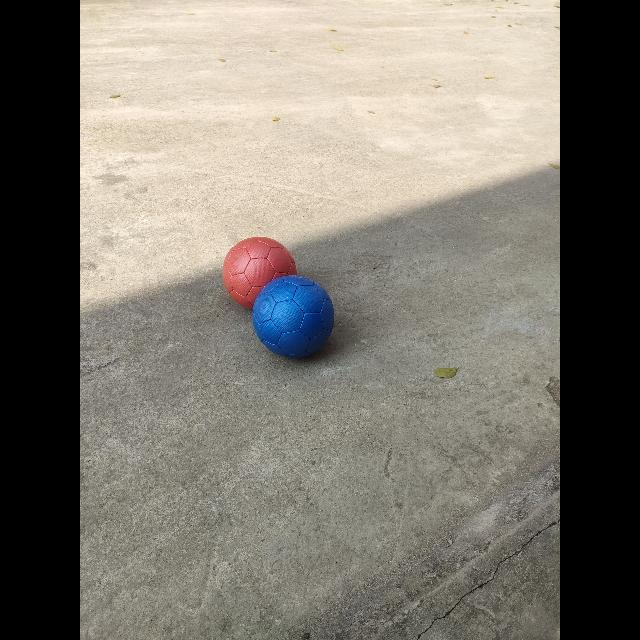B: (252, 275, 334, 358)
R: (222, 236, 296, 309)
